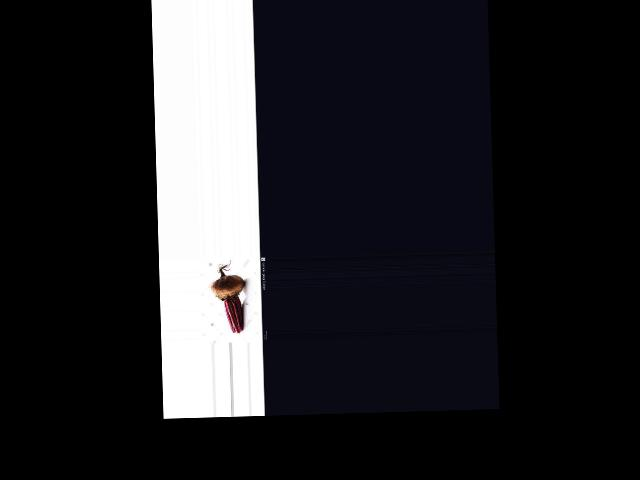beet: (210, 260, 245, 334)
